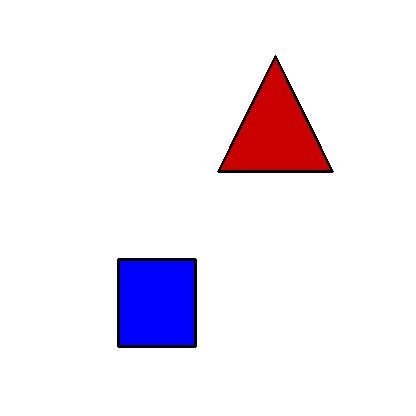rectangle: (118, 259, 195, 346)
triangle: (218, 56, 332, 171)
